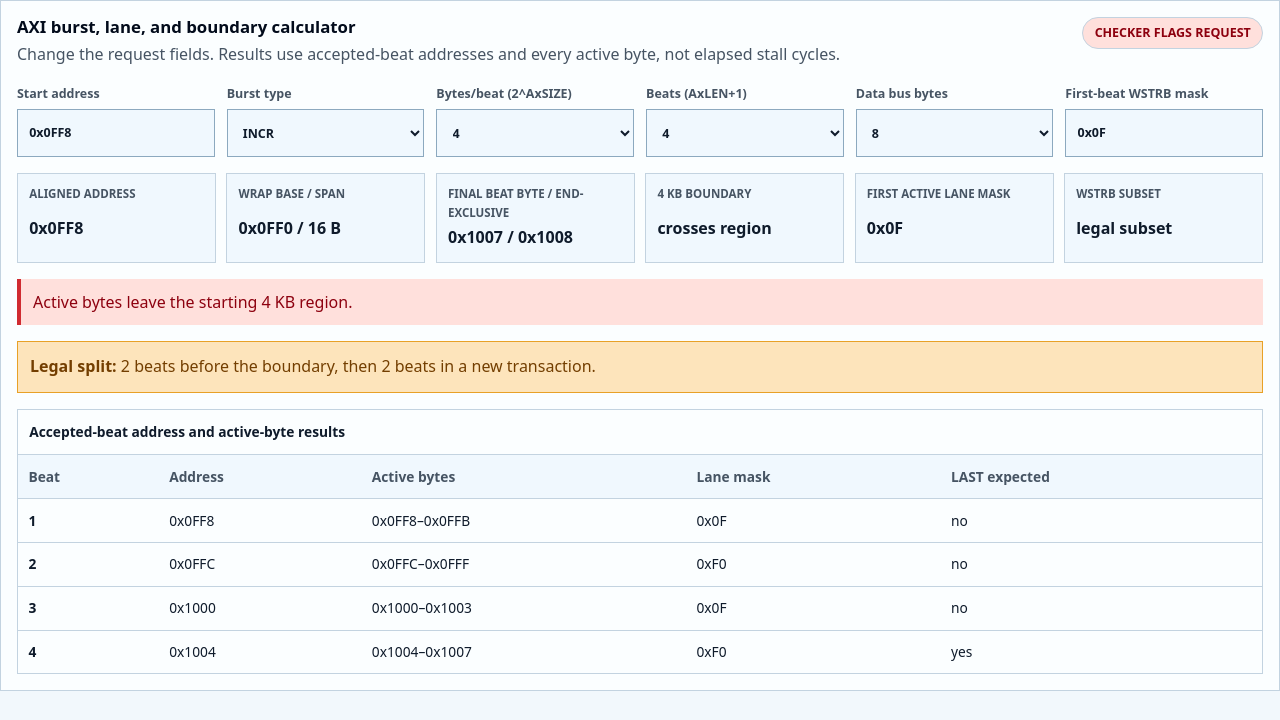
BurstCalculator › updates calculator fields and reports WSTRB lane legality accessibly
Replace the text in the field labelled "Start address" with "0x1001" at (116, 133), box [17,109,215,157]
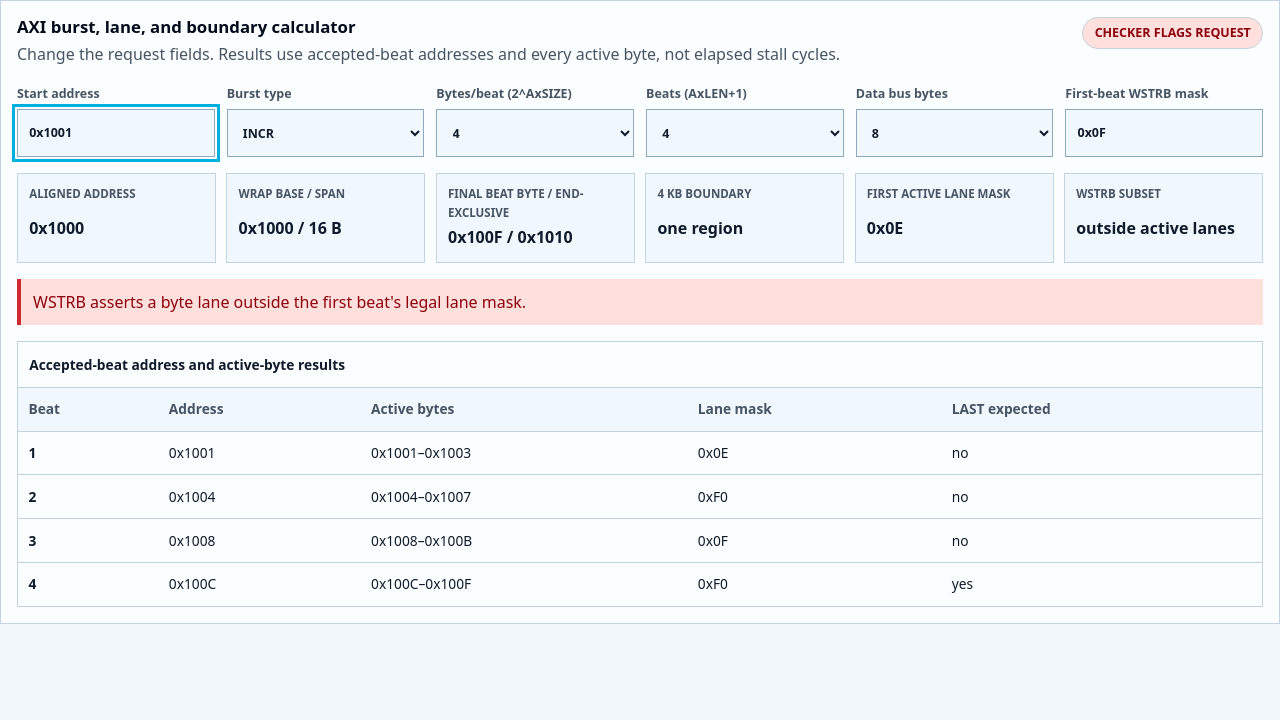
Select "2" in the dropdown labelled "Beats (AxLEN+1)" at (745, 133), box [646,109,844,157]
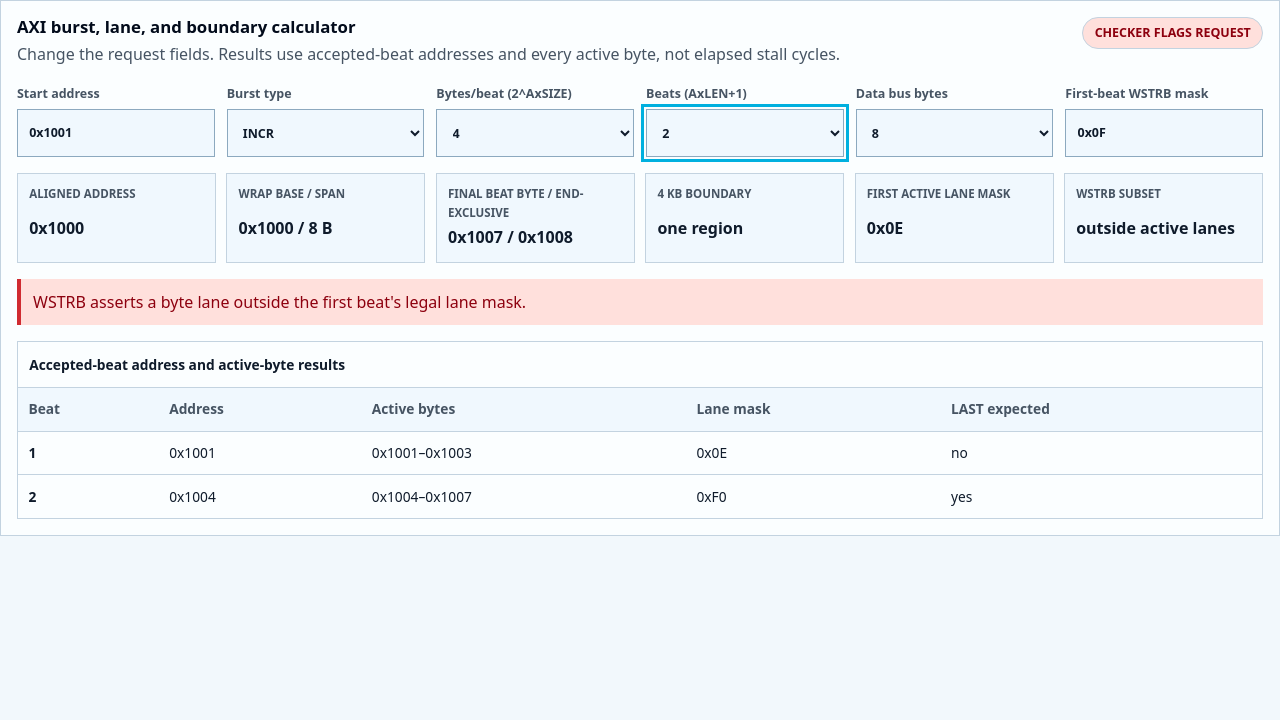
Replace the text in the field labelled "First-beat WSTRB mask" with "0x0E" at (1164, 133), box [1065,109,1263,157]
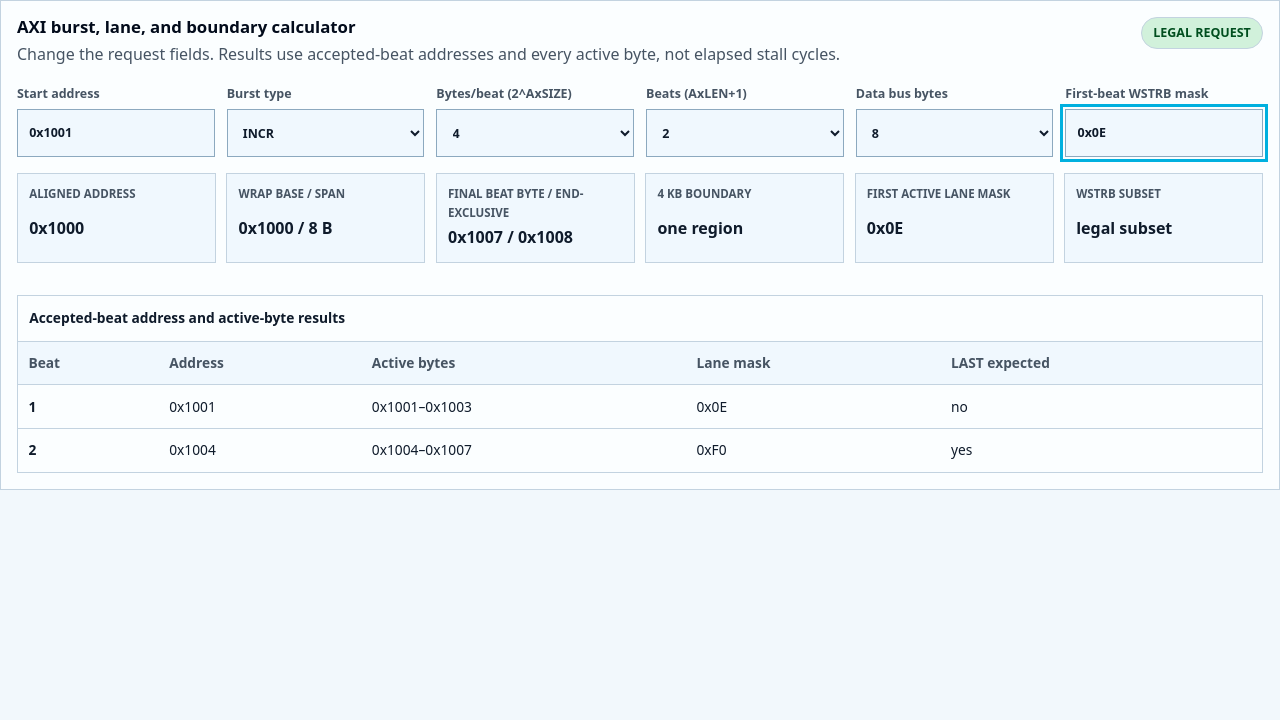
Check: the text "0x0E" is shown, box [867,217,903,239]
Check: the message reads "Legal request", box [1153,24,1251,41]
